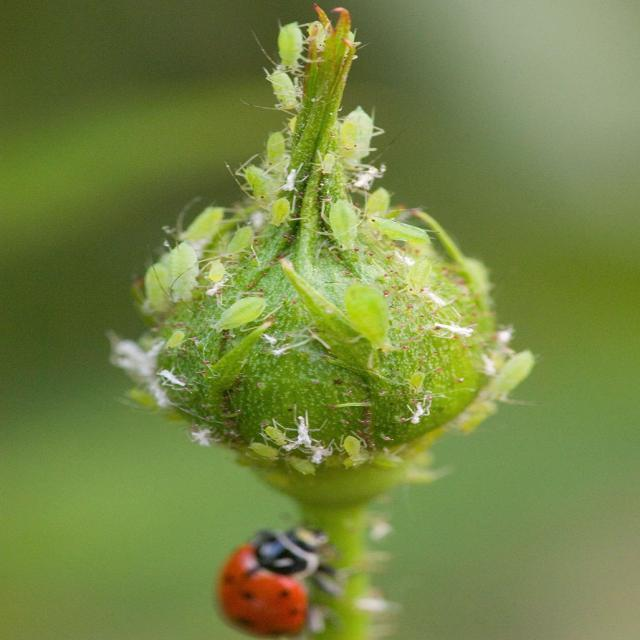Aphids: (157, 185, 288, 258), (121, 241, 232, 318), (306, 281, 407, 364), (248, 62, 339, 122), (190, 285, 278, 341), (217, 152, 294, 214), (262, 16, 328, 71), (309, 197, 364, 256)
